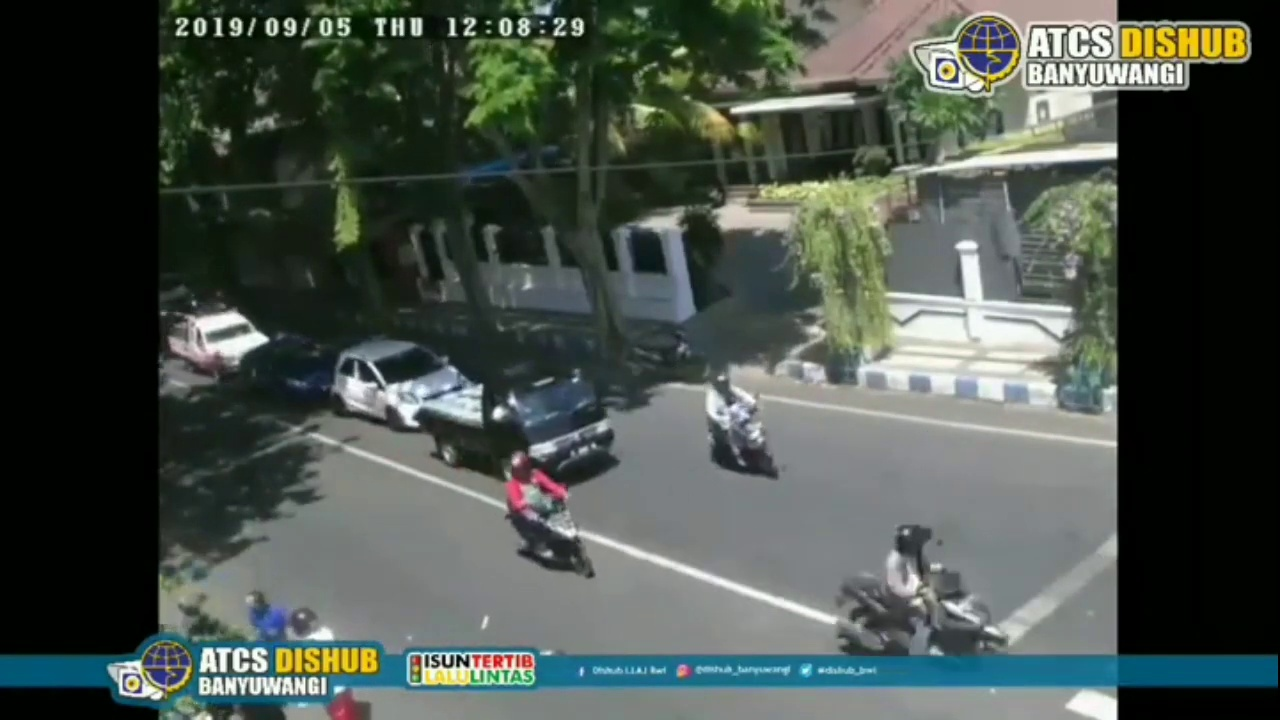car: (423, 354, 616, 483), (335, 329, 473, 436), (168, 301, 268, 383), (242, 332, 338, 404)
motorbike: (831, 524, 1014, 658), (503, 450, 593, 582), (704, 371, 782, 485)
